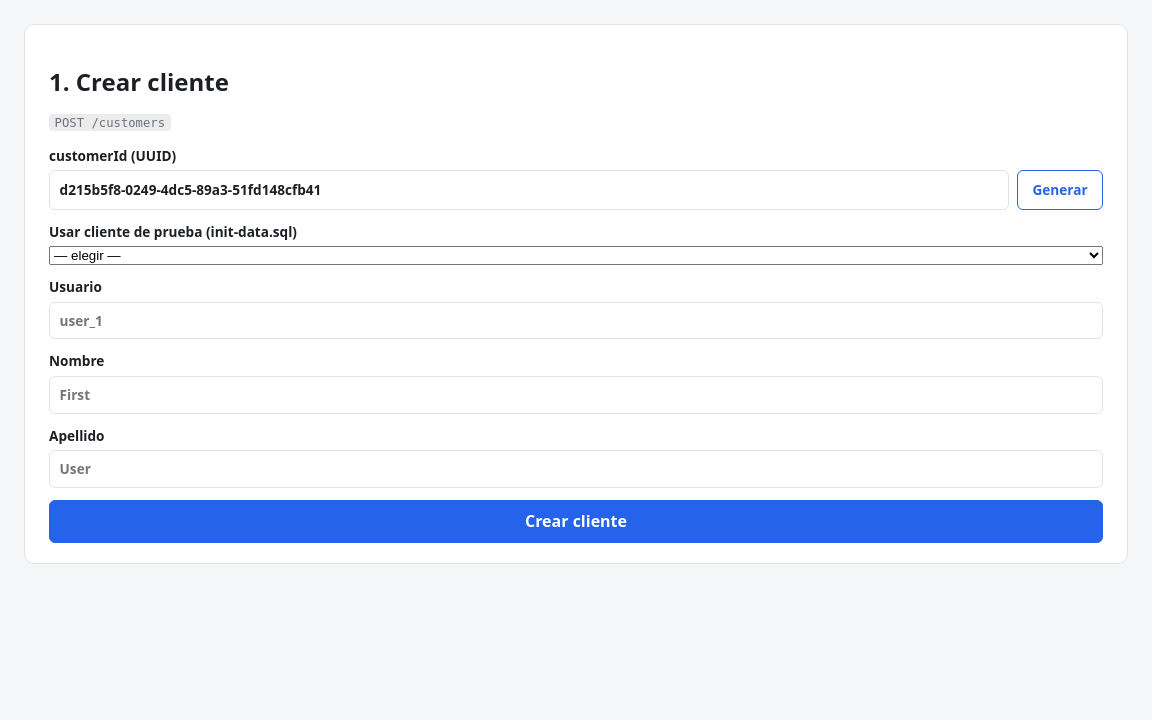
CreateCustomerForm › shows the error message and does not notify the parent when creation fails
Type "jdoe" into the field labelled "Usuario". click: (576, 321)
box: [49,302,1103,339]
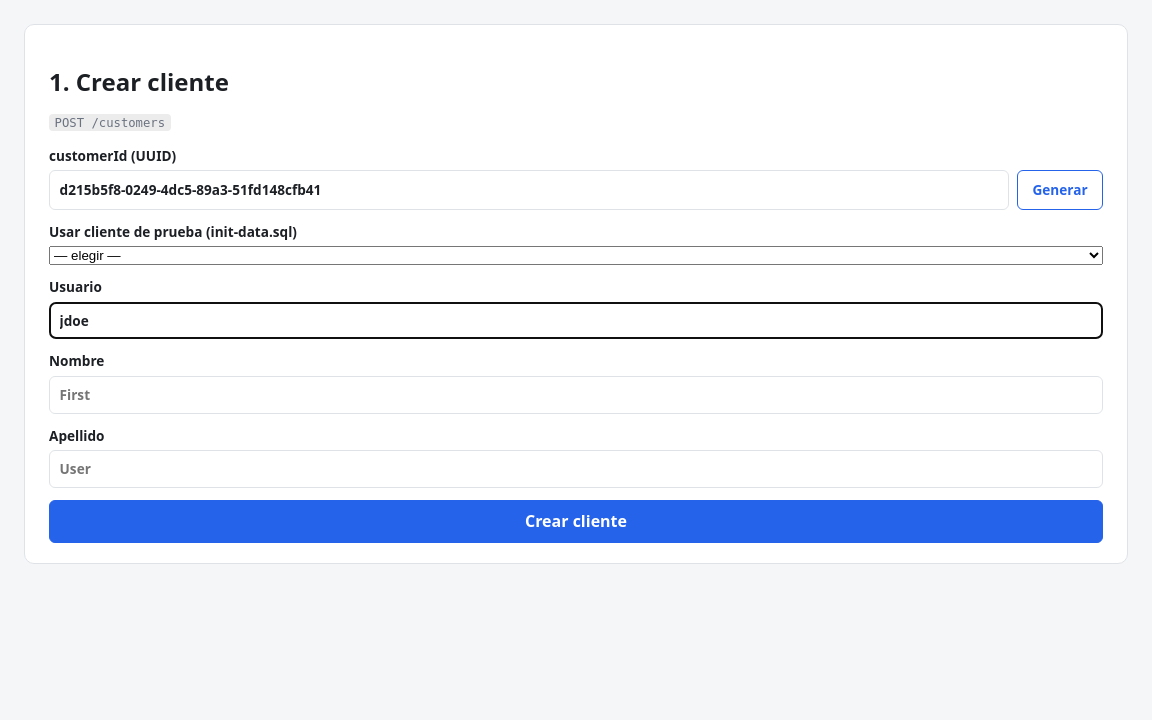
Type "Jane" into the field labelled "Nombre". click: (576, 395)
box: [49,376,1103,414]
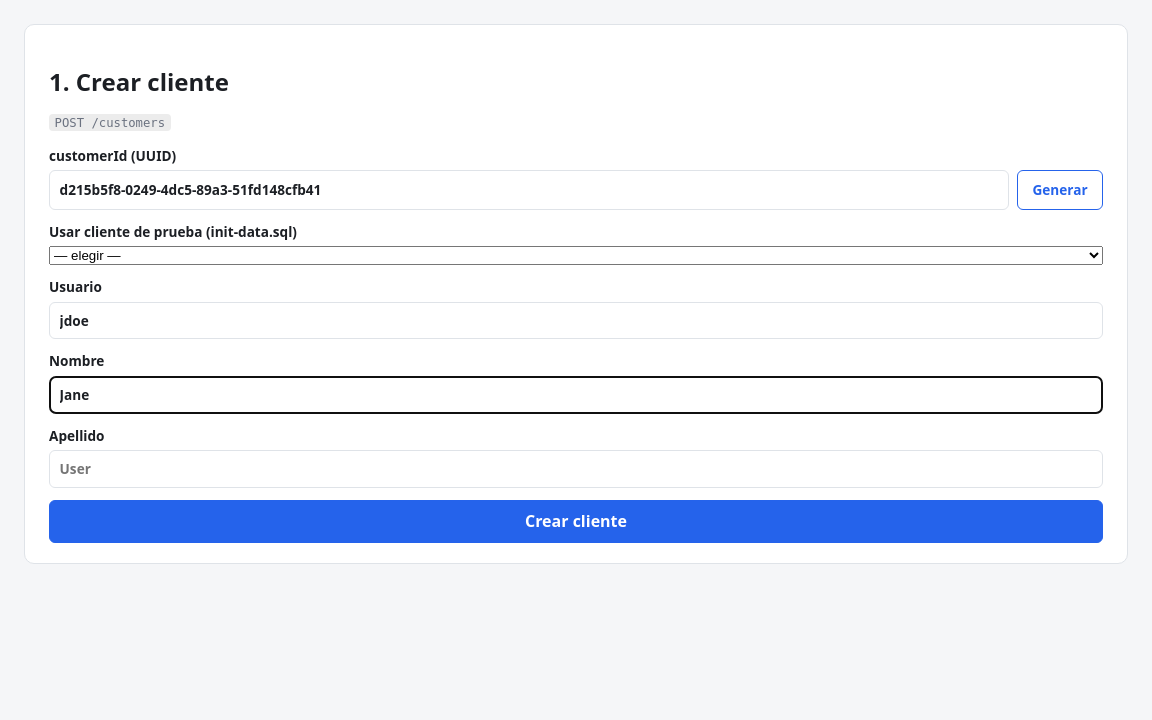
Type "Doe" into the field labelled "Apellido". click: (576, 469)
box: [49,450,1103,488]
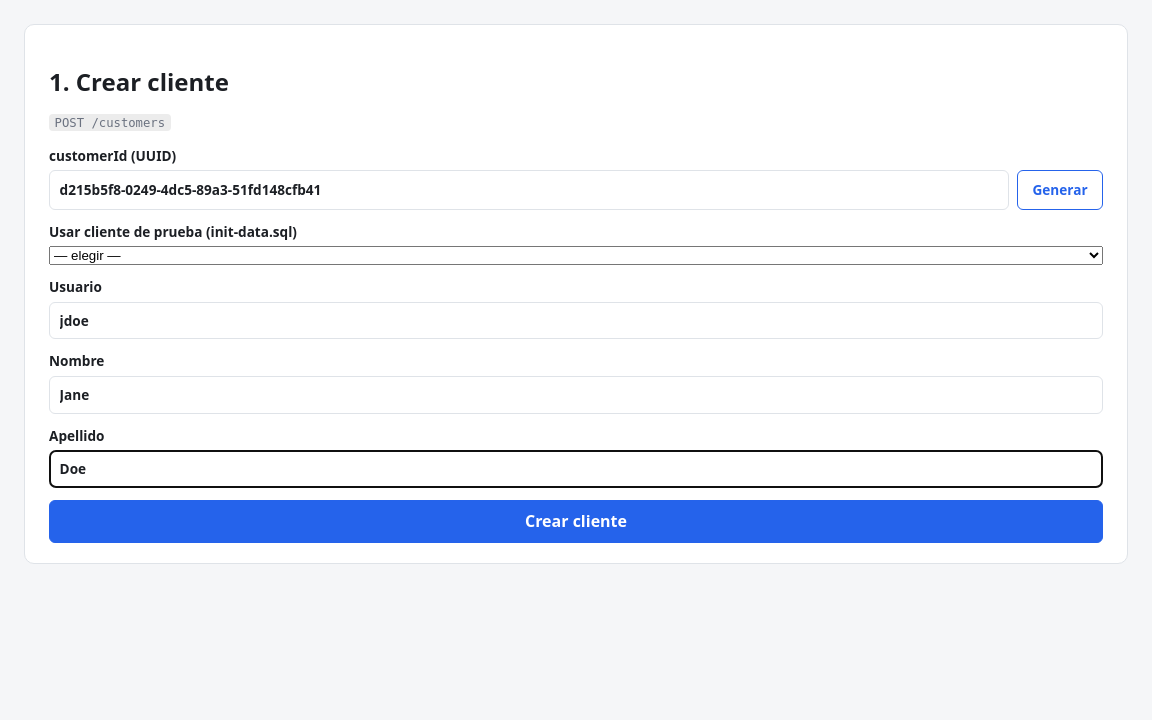
Click the button "Crear cliente". click: (576, 521)
box: [49,500,1103,543]
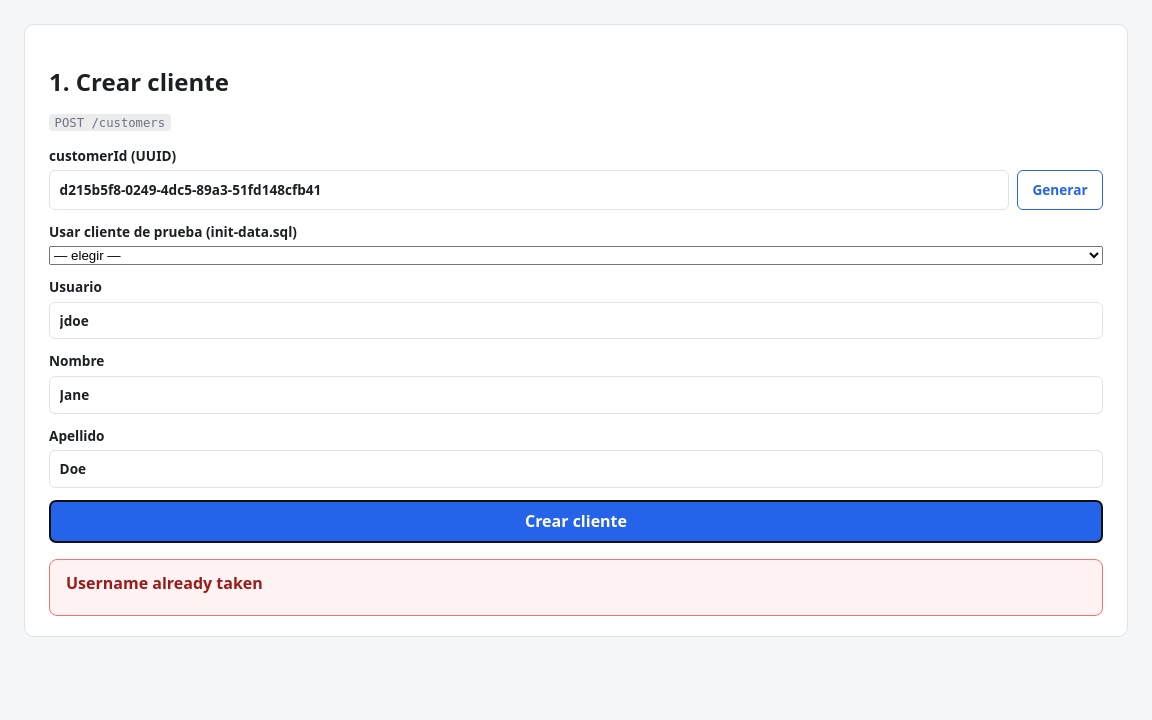
Expected: the text "Username already taken" is shown, [66,572,263,594]
